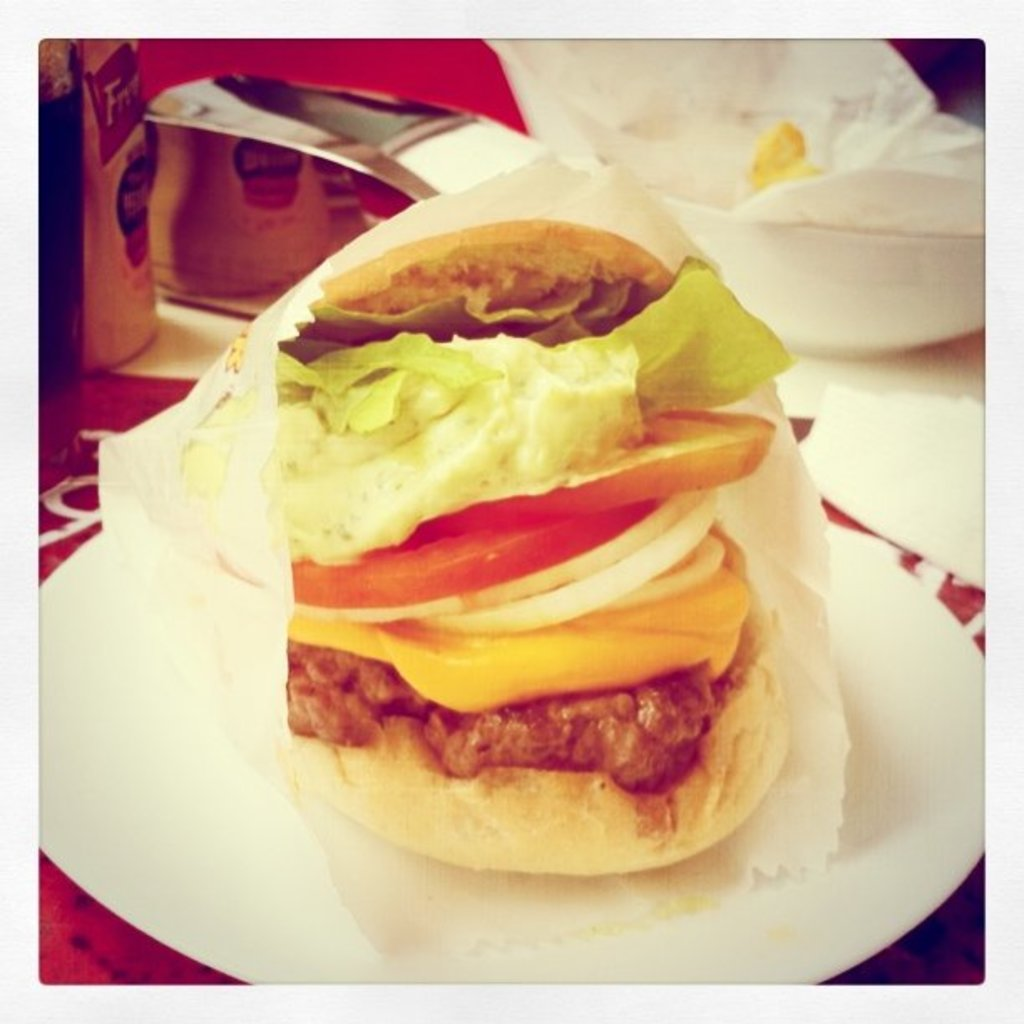Hamburger: (179, 220, 789, 871)
